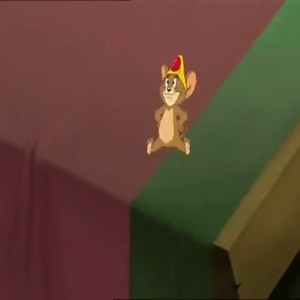Jerry: (147, 55, 195, 158)
